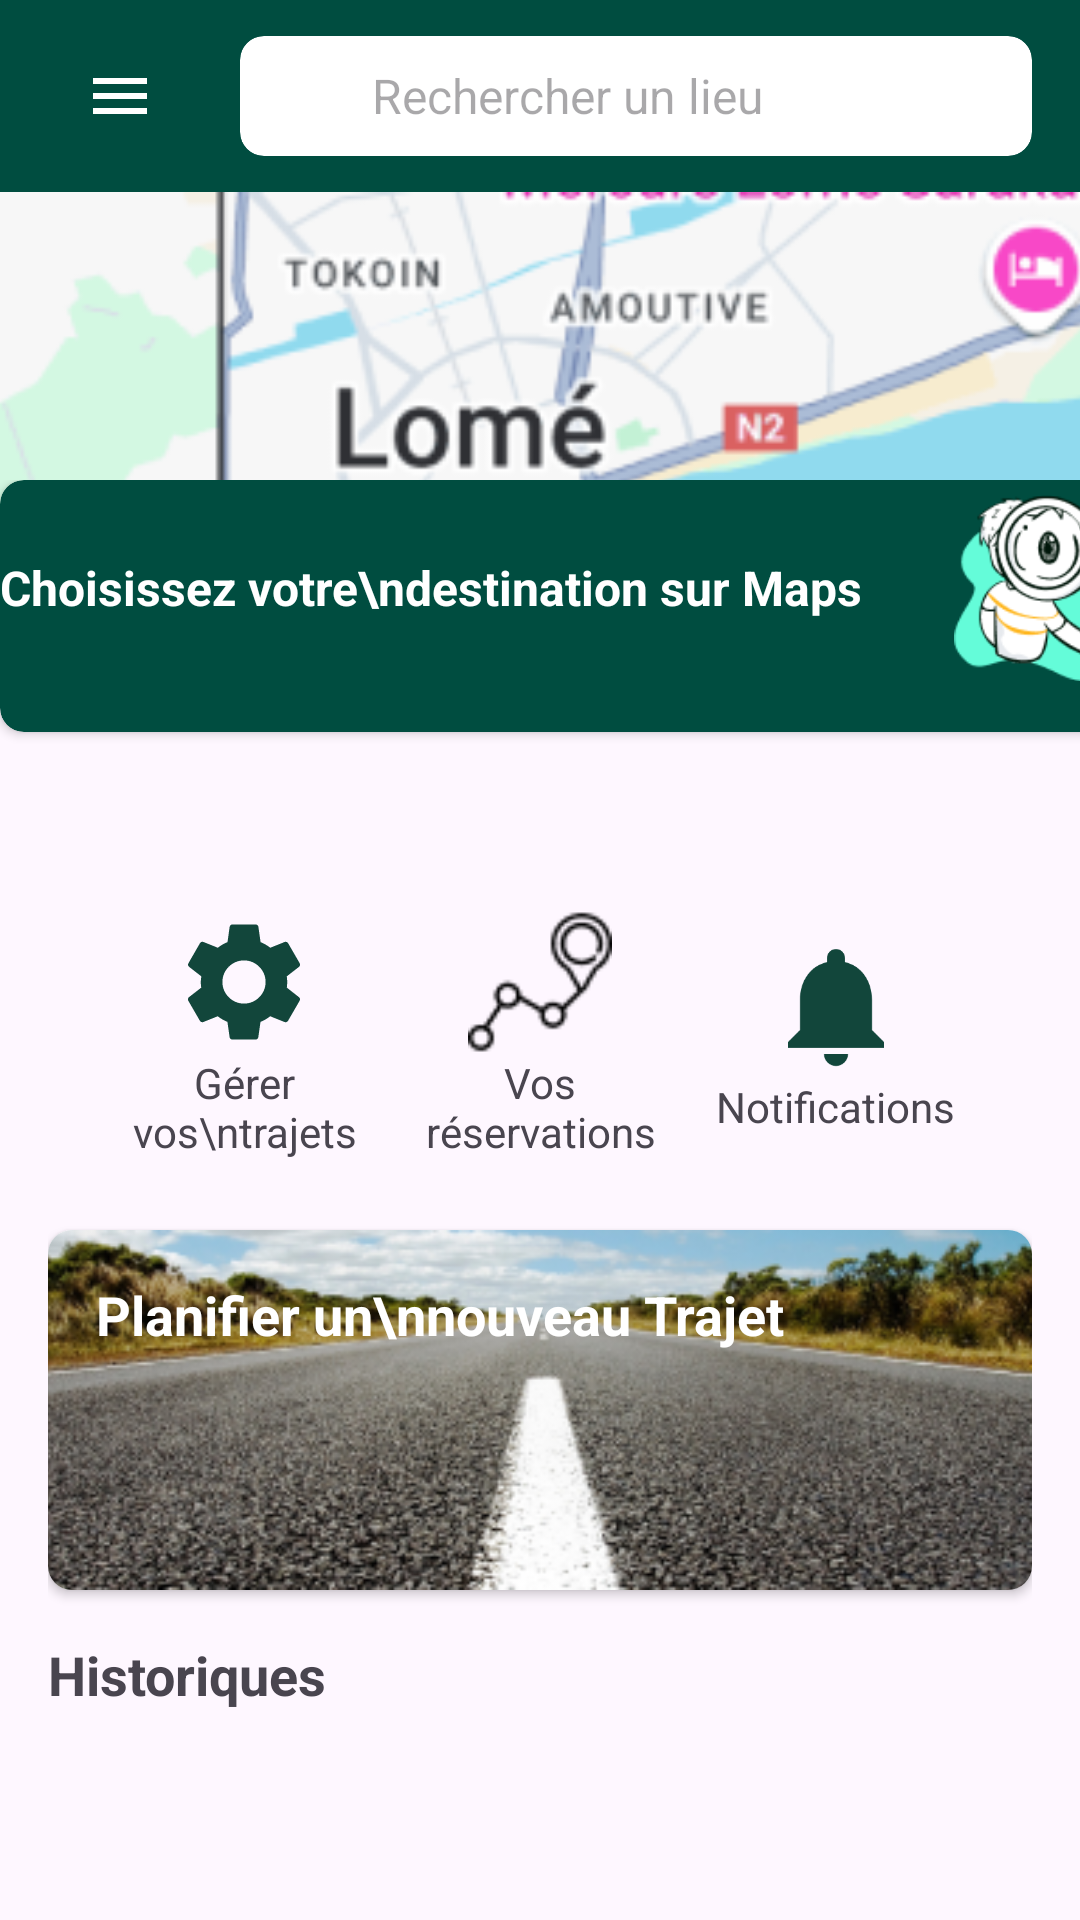

Locate icon controls on the screen. Image size 1080×1920, boxes as (x1, y1, x2, y2).
Menu: (93, 78, 147, 114)
suivre reservations: (468, 912, 612, 1052)
